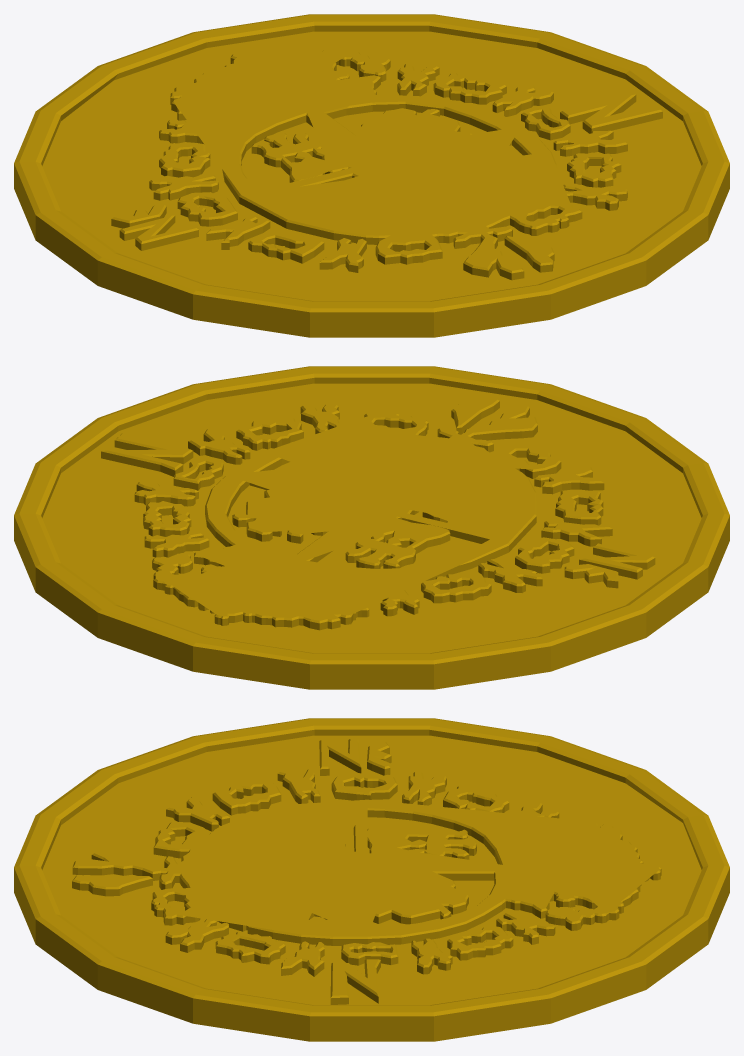
Rendered from Gold_Coin.fbx.
The picture shows the model from 3 angles, top to bottom: view 1: azimuth 30°, elevation 25°; view 2: azimuth 150°, elevation 25°; view 3: azimuth 270°, elevation 25°; orthographic projection.
Visible parts, largest first — view 1: Cylinder; view 2: Cylinder; view 3: Cylinder.
Part boxes in pixels (left/top/right/bottom): Cylinder: left=14, top=14, right=729, bottom=337; Cylinder: left=14, top=366, right=729, bottom=689; Cylinder: left=14, top=718, right=729, bottom=1041.
Size of the model in its own units: 32.5 by 1.51 by 33.01.
